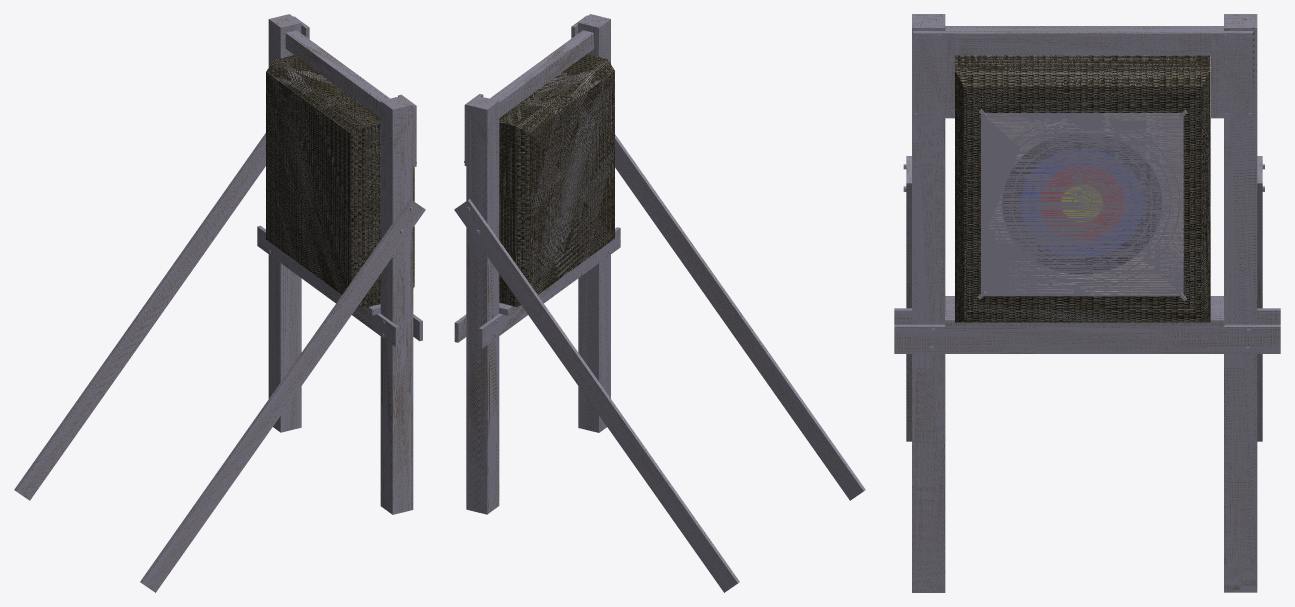
Rendered from ObjekTembak2.fbx.
3 renders of one model, left to right at view 1: azimuth 30°, elevation 25°; view 2: azimuth 150°, elevation 25°; view 3: azimuth 270°, elevation 25°, orthographic. The views are drawn at different scales.
Parts seen in each view (by area): view 1: Group1; view 2: Group1; view 3: Group1.
Part boxes in pixels (x1,y1,x2,y2): Group1: (14, 14, 425, 592); Group1: (454, 14, 865, 592); Group1: (894, 14, 1280, 592).
Bounding box in the file's own units: 3.95 × 5.41 × 3.21.
